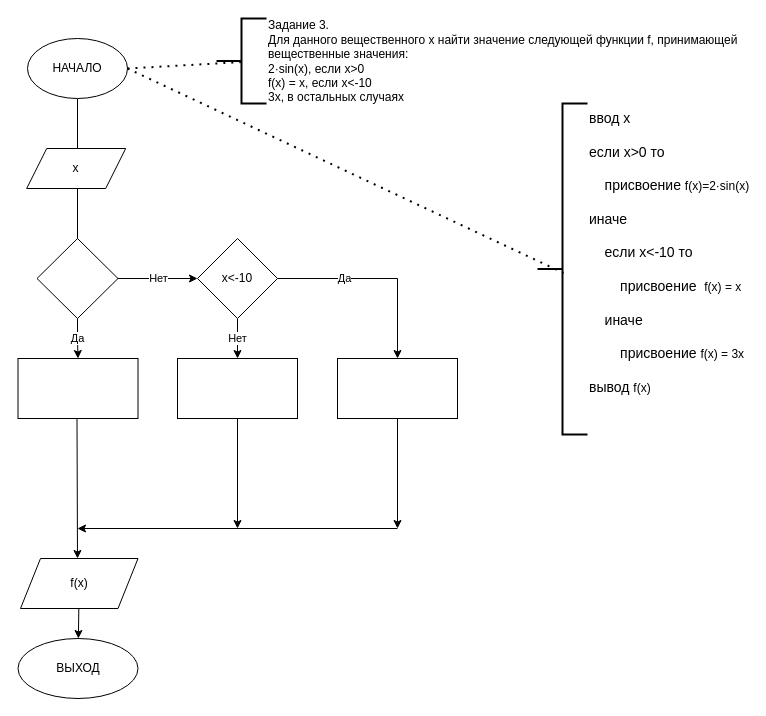
The diagram is 766 pixels wide and 716 high, and some of its shapes have lost their labels. Here are the shapes that lost their labels. From the top down, the box of each, then its label:
(36, 238, 118, 318): x>0
(17, 358, 138, 418): f(x)=2·sin(x)
(176, 358, 298, 418): f(x) = 3·x
(336, 358, 458, 418): f(x) =x
